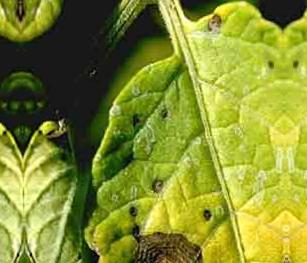Tomato Early blight leaf: (73, 0, 288, 263)
